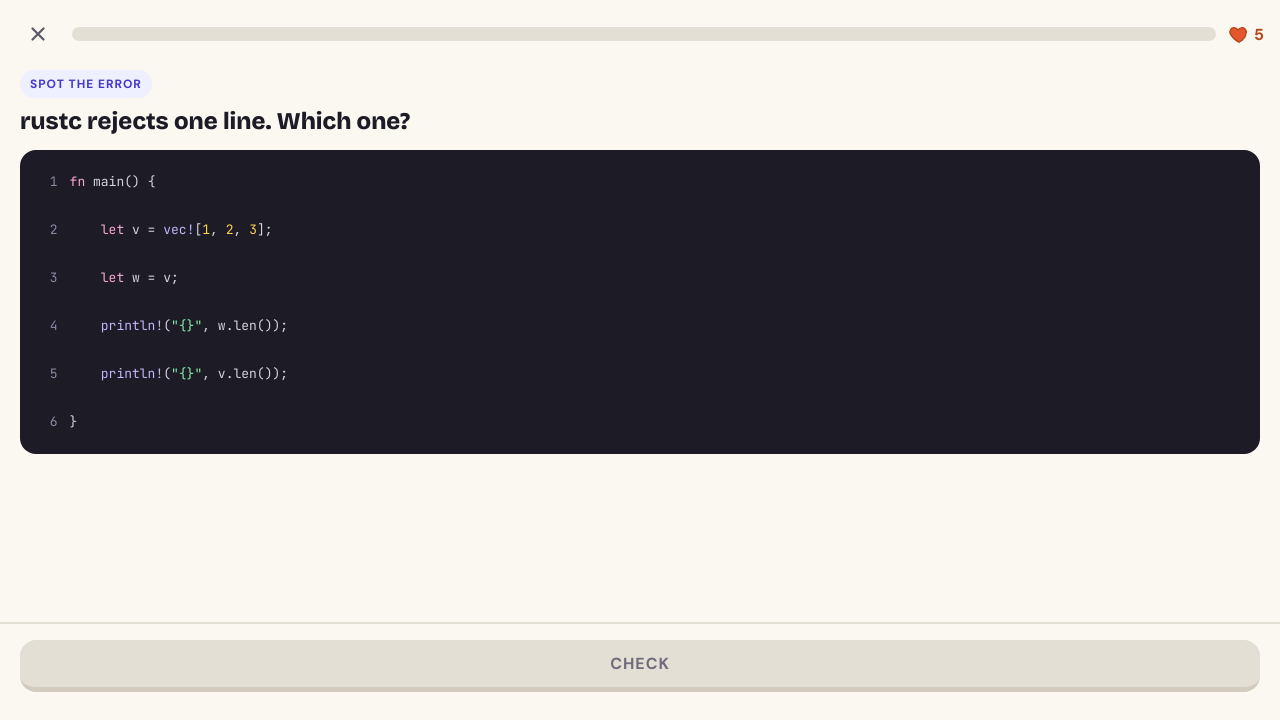
Test: Spot the error (Rust) › picks a line and reveals rustc’s line and message when wrong
Click the button with aria-label "Line 3: let w = v;" at (54, 278), box [30, 256, 1250, 300]
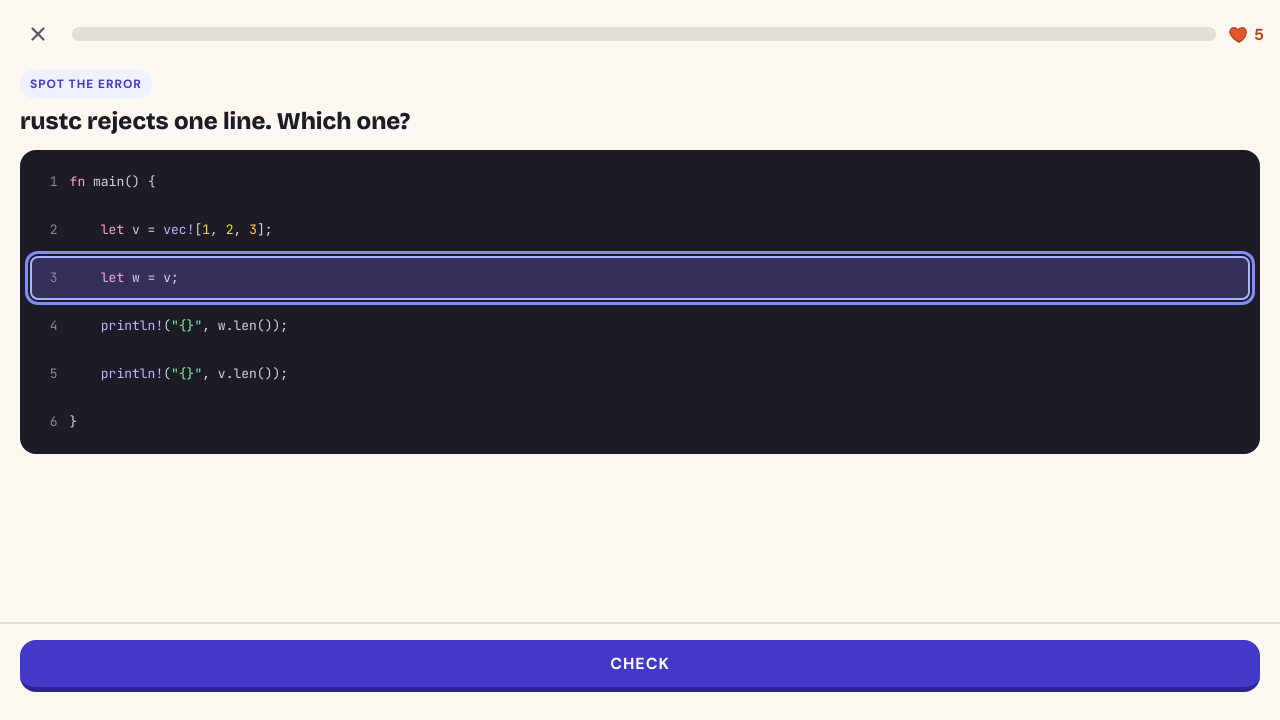
expect the button with aria-label "Line 3: let w = v;" is pressed: met, box [30, 256, 1250, 300]
Click the button "Check" at (640, 666), box [20, 640, 1260, 692]
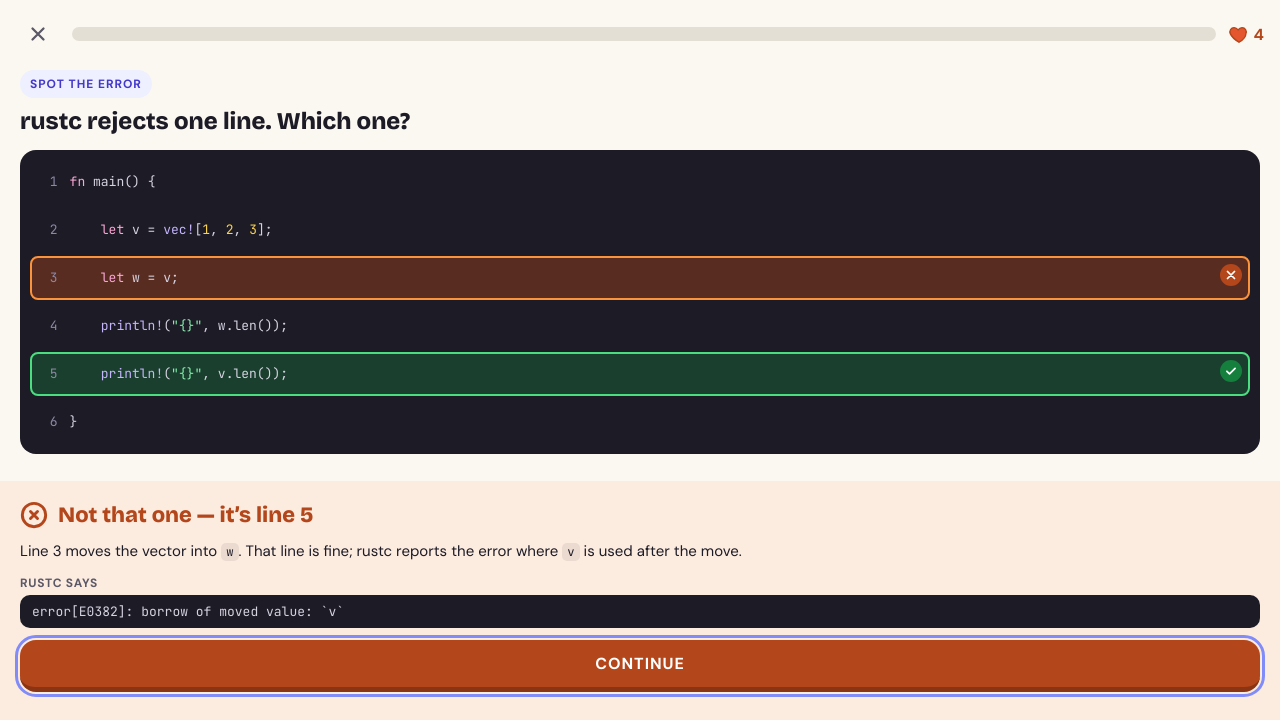
expect the element named "Feedback" shows "Not that one — it’s line 5": met, box [58, 502, 313, 528]
expect the element named "Feedback" shows "error[E0382]: borrow of moved value: `v`": met, box [32, 603, 344, 620]
expect the button named "Line 5: println!(\"{}\", v.len());, correct answer" is shown: met, box [30, 352, 1250, 396]
